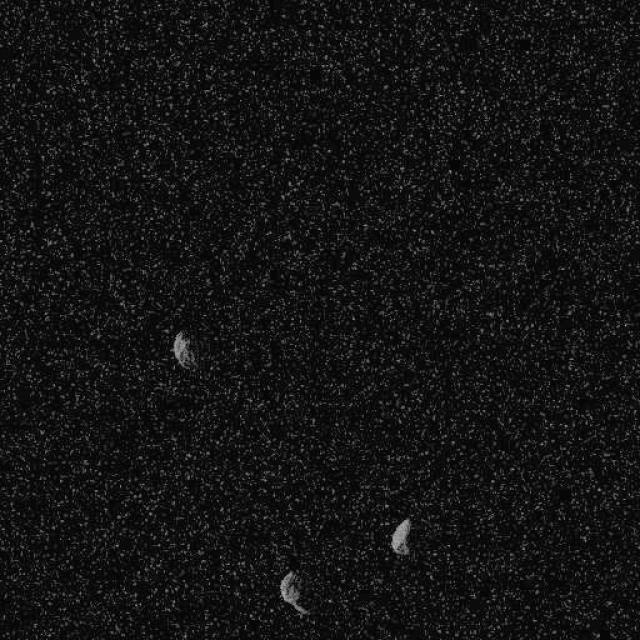D2: (278, 569, 312, 616), (172, 330, 196, 370), (389, 516, 411, 555)
